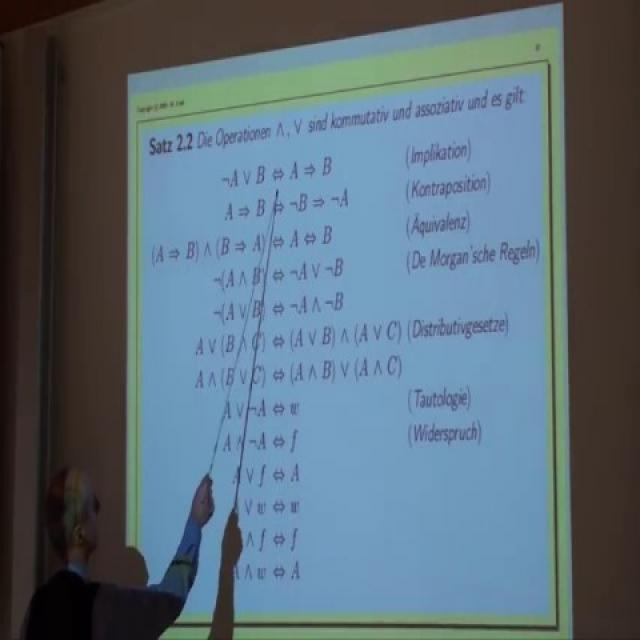Instructor: (27, 468, 140, 640)
Slide: (122, 14, 573, 640)
